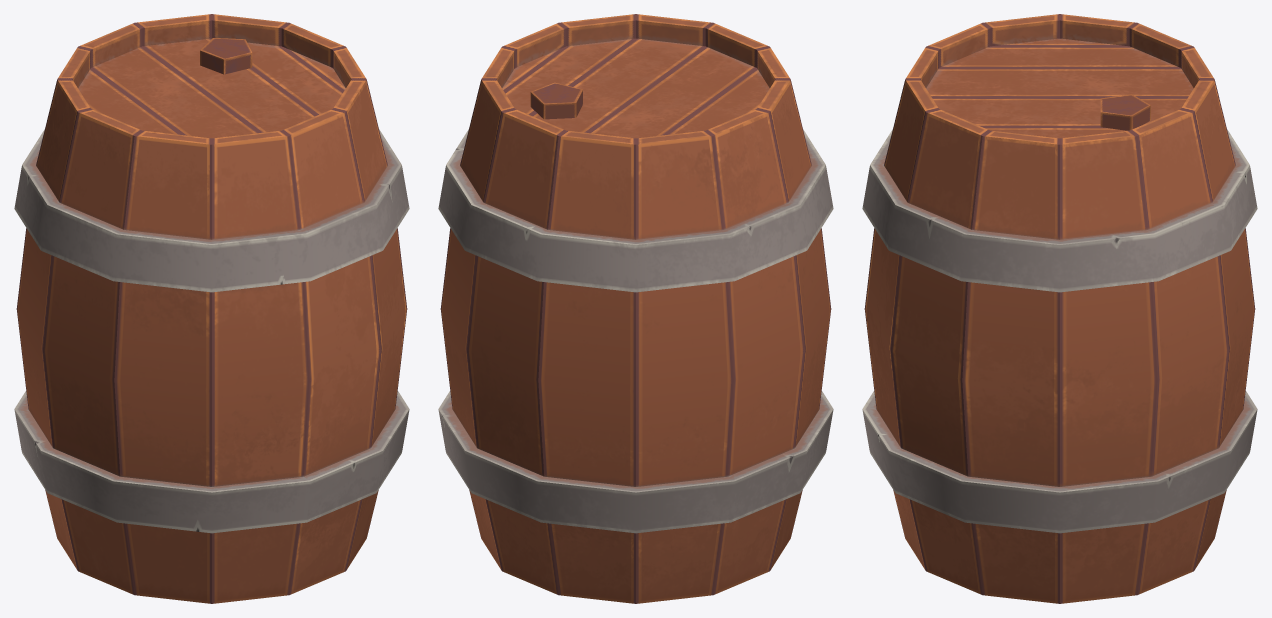
File: Barril.fbx
3 renders of one model, left to right at view 1: azimuth 30°, elevation 25°; view 2: azimuth 150°, elevation 25°; view 3: azimuth 270°, elevation 25°, orthographic.
Parts seen in each view (by area): view 1: Barrel_LOD0; view 2: Barrel_LOD0; view 3: Barrel_LOD0.
Part boxes in pixels (bbox=[...]): Barrel_LOD0: bbox=[14, 14, 409, 603]; Barrel_LOD0: bbox=[438, 14, 833, 603]; Barrel_LOD0: bbox=[862, 14, 1257, 603].
Size of what is drawn, in the model's own units: 70.2 by 90 by 70.2.
